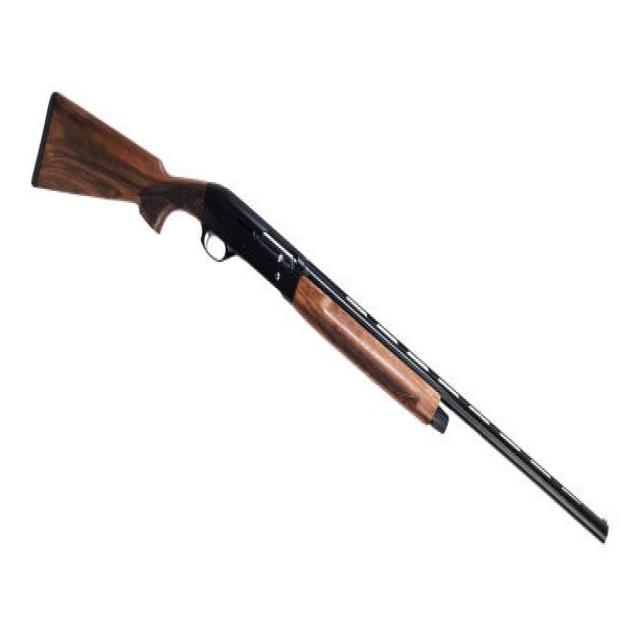rifle: (28, 83, 614, 555)
